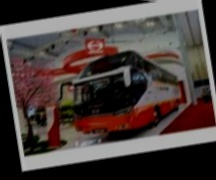bus: (63, 41, 187, 139)
